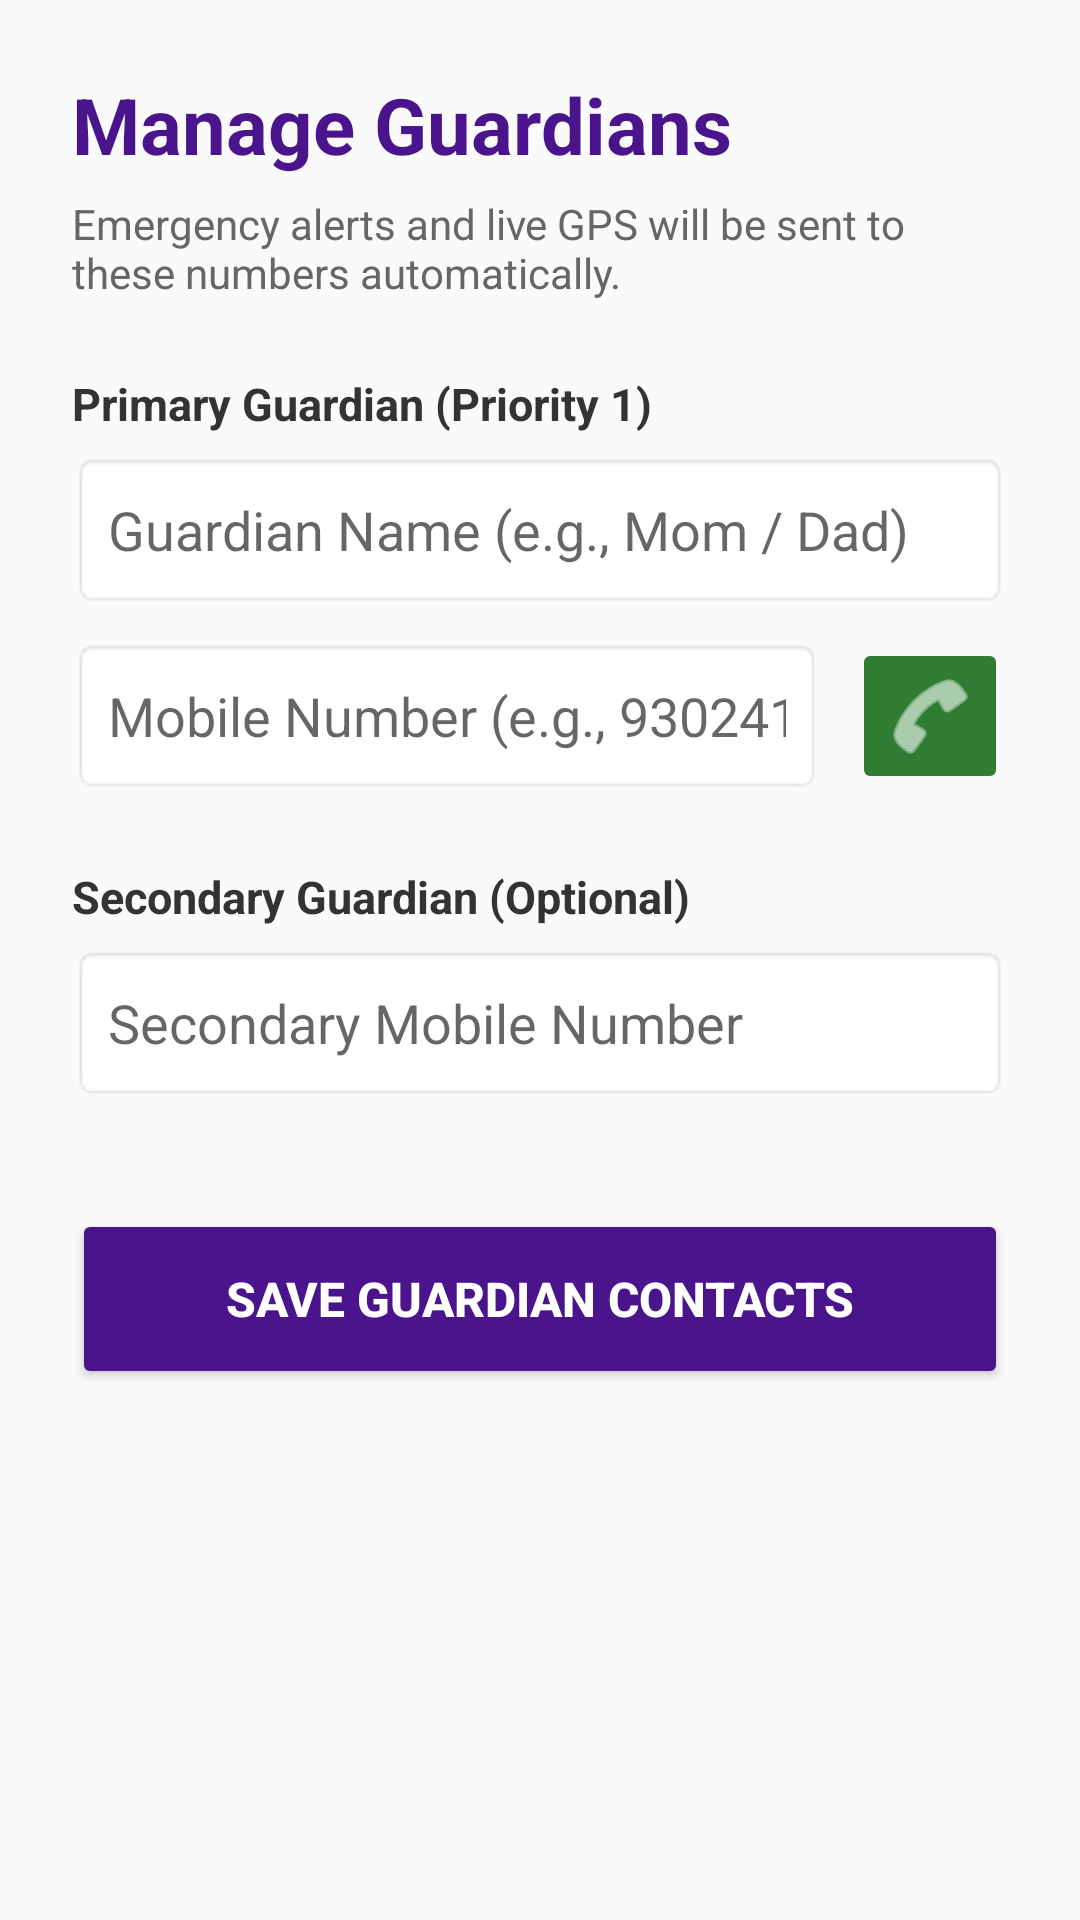

Icon click points for this 1080x1920 phone screenshot, format [x,y]:
Quick Call: [930,716]
